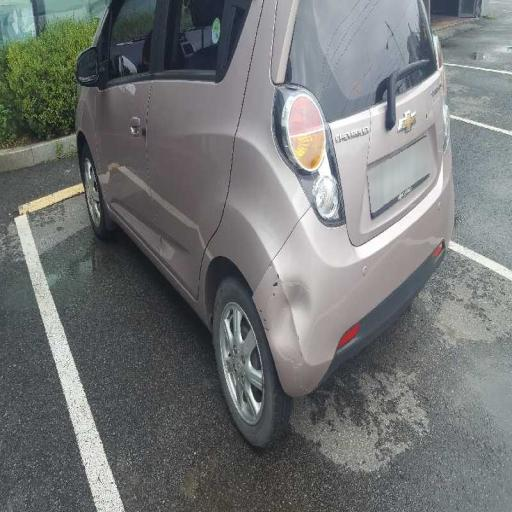dent: (234, 192, 339, 404)
